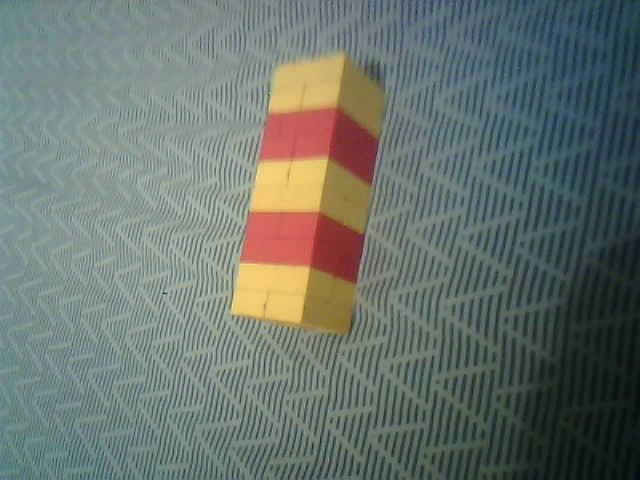lego: (229, 52, 389, 336)
